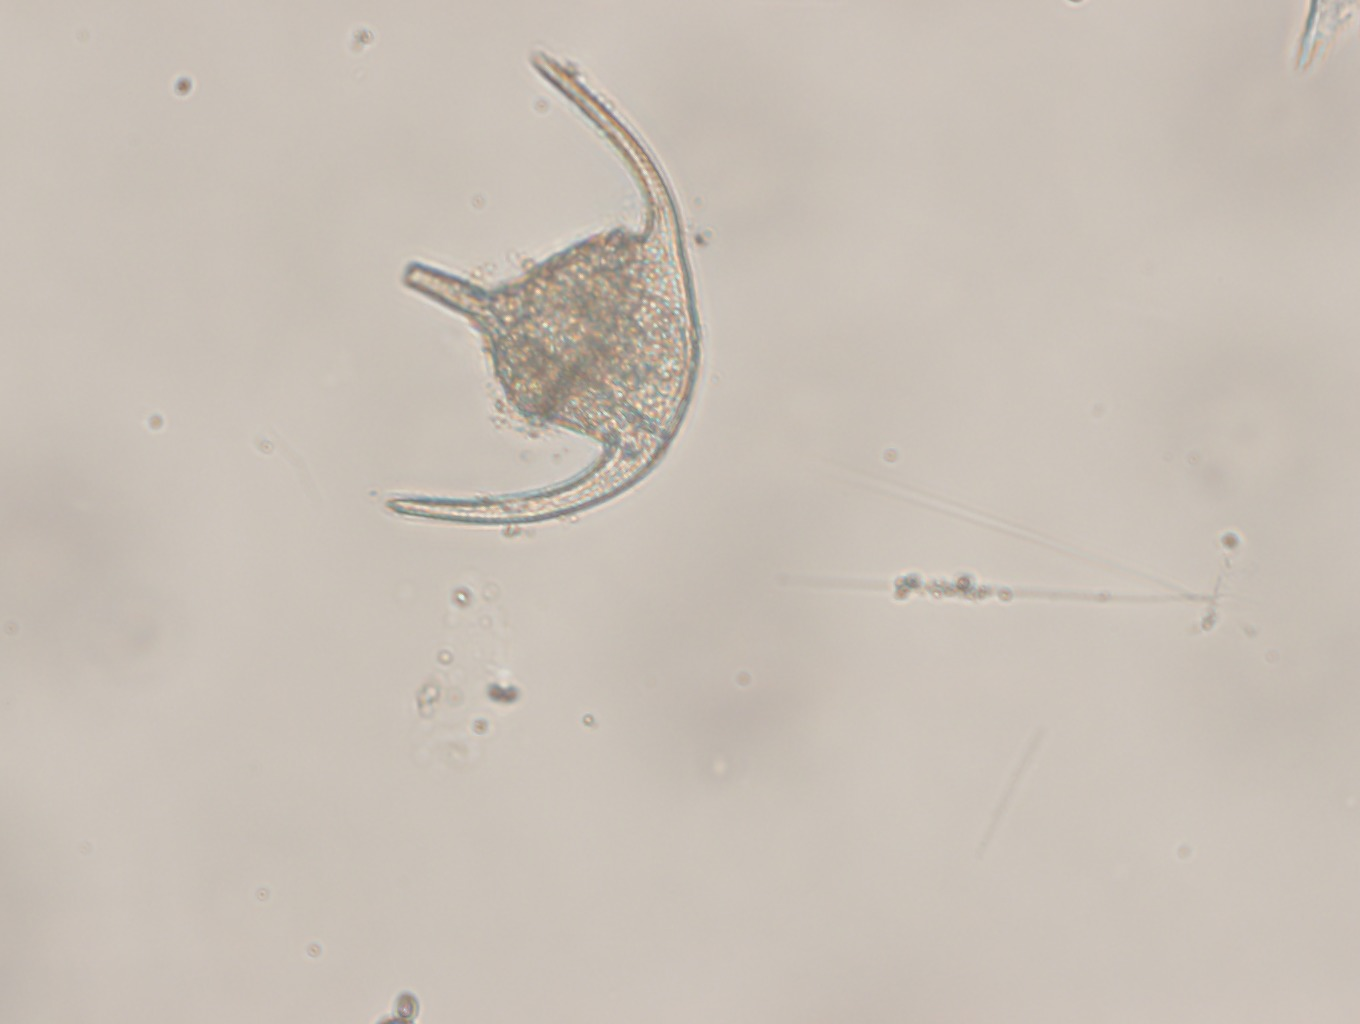ceratium tripos: (363, 44, 707, 540)
